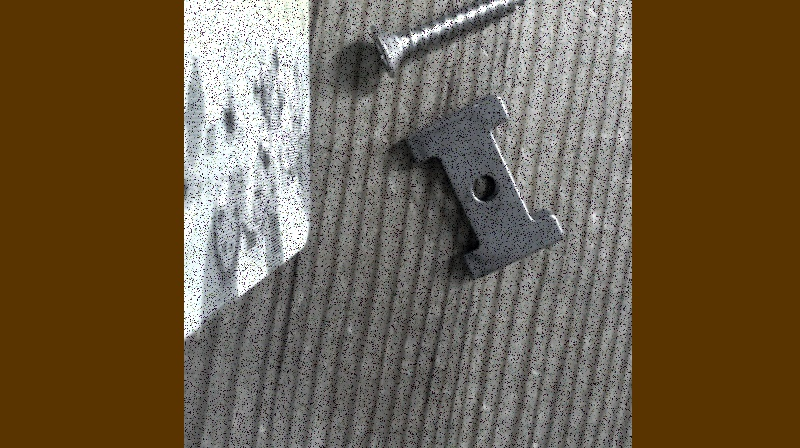O002: (401, 92, 565, 280)
S001: (369, 0, 534, 77)
